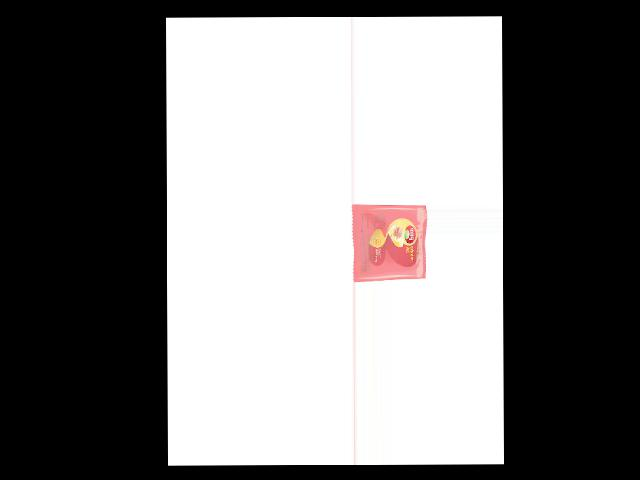cheese: (351, 203, 426, 279)
